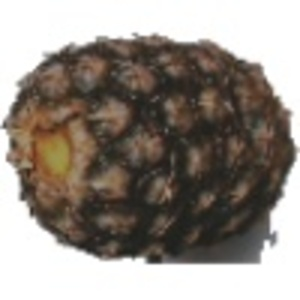abacaxi: (3, 27, 294, 251)
